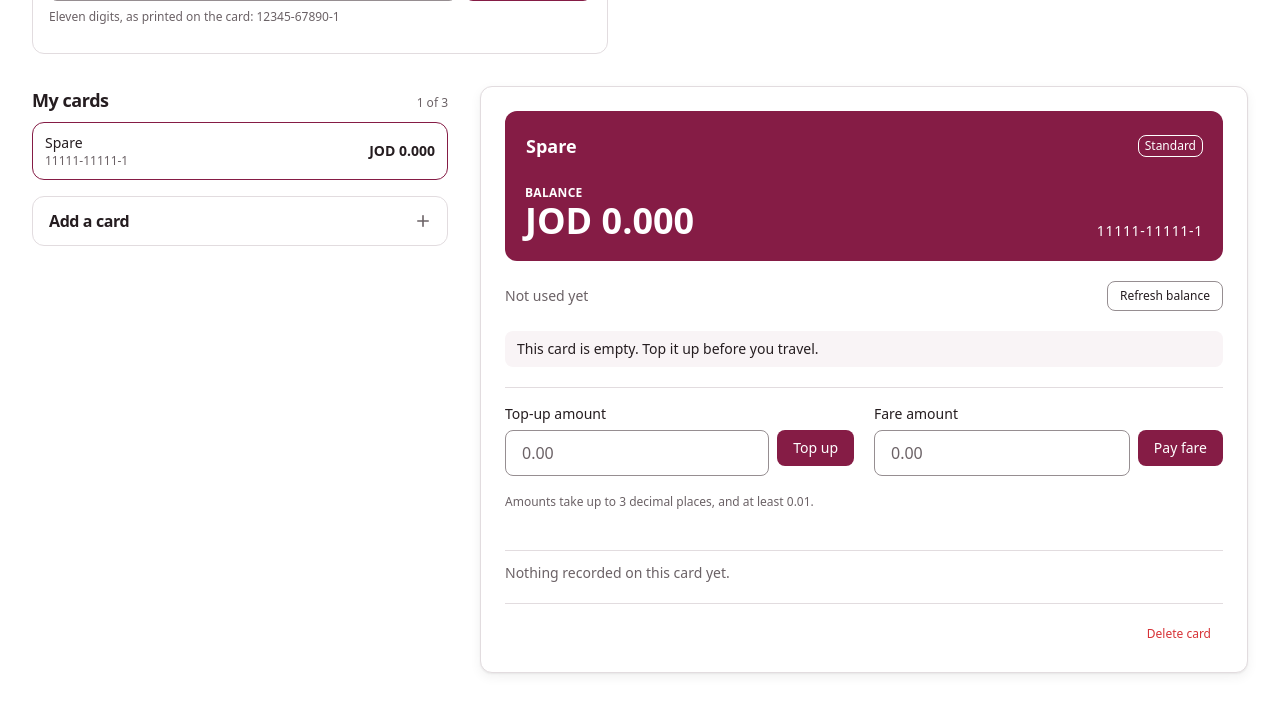
Test: the money › asks in a modal that names the card, and deletes nothing yet
(page scrolled)
What coordinates should you click on to do the following:
click the button "Delete card"
I would click on:
 (1179, 634)
Its box is [1135, 620, 1223, 648].
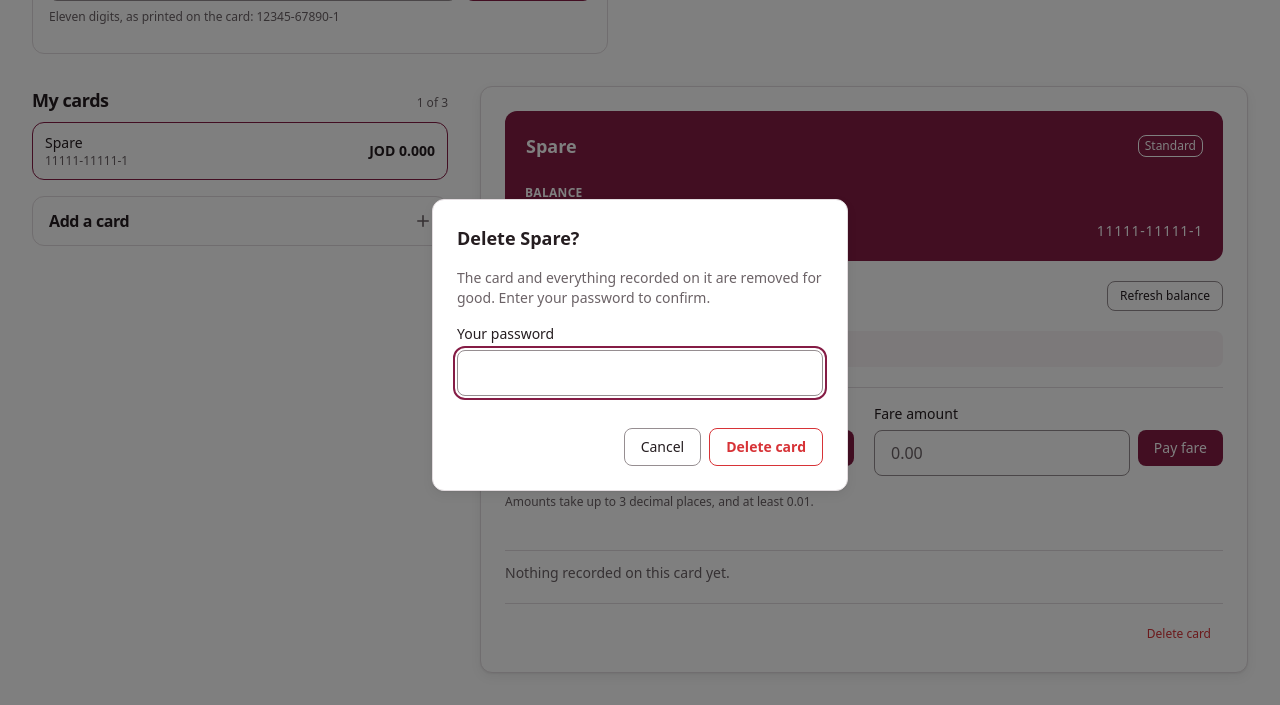
Result: the heading "Delete Spare?" is shown at [457, 226, 579, 250]
What coordinates should you click on to do the following:
click the button "Cancel"
I would click on:
 (662, 447)
Its box is [624, 428, 701, 466].
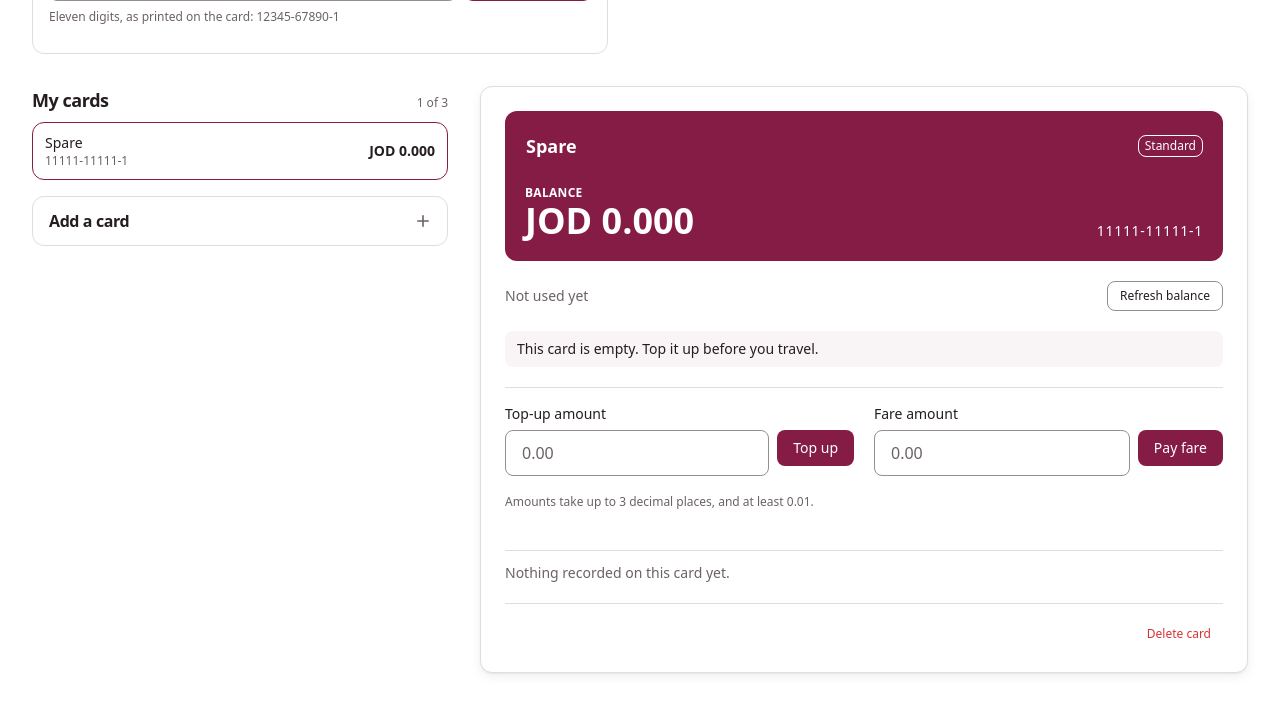
Result: the dialog is gone
